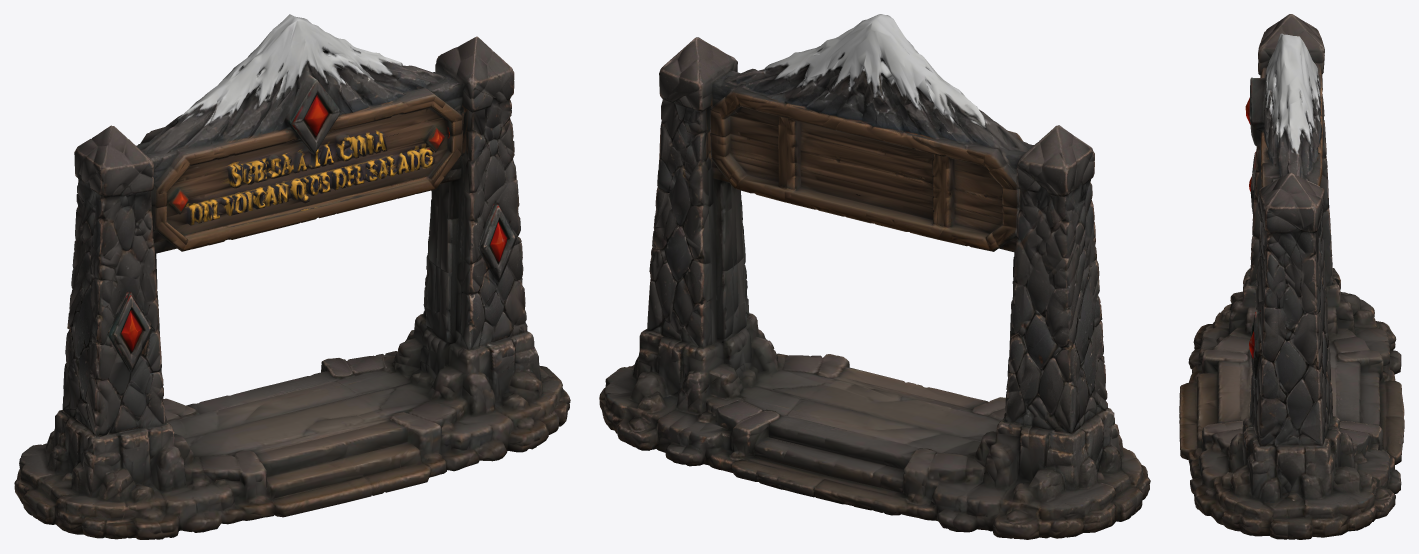
The model's file is subida_ojos_del_salado.glb.
3 views of the same model, side by side, from view 1: azimuth 30°, elevation 25°; view 2: azimuth 150°, elevation 25°; view 3: azimuth 270°, elevation 25° (orthographic). The views are drawn at different scales.
Parts seen in each view (by area): view 1: subida_ojos_del_salado; view 2: subida_ojos_del_salado; view 3: subida_ojos_del_salado.
Boxes of the visible parts, x1,y1,x2,y2 form: subida_ojos_del_salado: (14,14,570,539); subida_ojos_del_salado: (599,14,1150,539); subida_ojos_del_salado: (1179,14,1404,539).
Size of what is drawn, in the model's own units: 8 by 6.44 by 3.35.
1 material, 1 textured.
